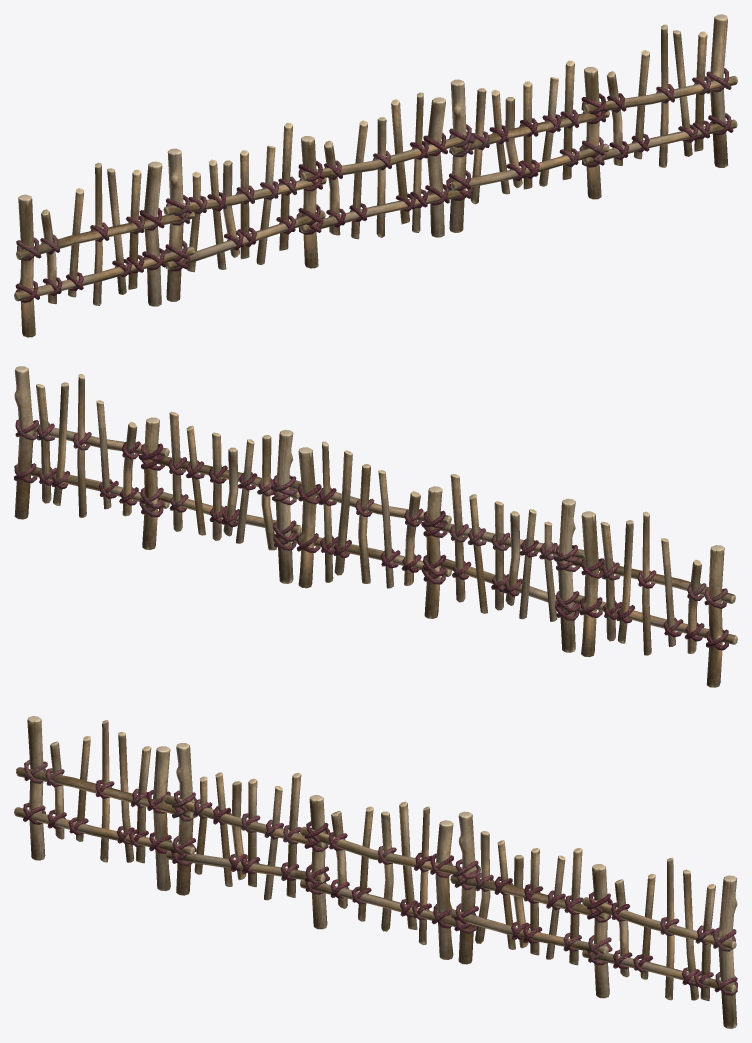
3 views of the same model, one above another, from view 1: azimuth 30°, elevation 25°; view 2: azimuth 150°, elevation 25°; view 3: azimuth 330°, elevation 25° (orthographic).
Parts seen in each view (by area): view 1: SM_Garou_Set_SM_SpikeFence_03_4x8_LOD0; view 2: SM_Garou_Set_SM_SpikeFence_03_4x8_LOD0; view 3: SM_Garou_Set_SM_SpikeFence_03_4x8_LOD0.
Part boxes in pixels (x1,y1,x2,y2): SM_Garou_Set_SM_SpikeFence_03_4x8_LOD0: (14,14,737,337); SM_Garou_Set_SM_SpikeFence_03_4x8_LOD0: (14,366,737,687); SM_Garou_Set_SM_SpikeFence_03_4x8_LOD0: (14,716,737,1028).
Bounding box in the file's own units: 7.64 × 1.58 × 0.296.
Materials: 1 (1 with a texture image).
